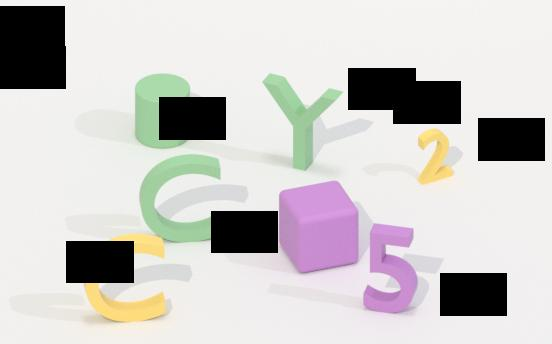2: (411, 126, 457, 188)
5: (359, 223, 423, 315)
Y-hoa: (251, 72, 352, 173)
c: (131, 151, 235, 248), (76, 234, 180, 327)
hop: (270, 181, 364, 272)
tru: (132, 73, 193, 152)
